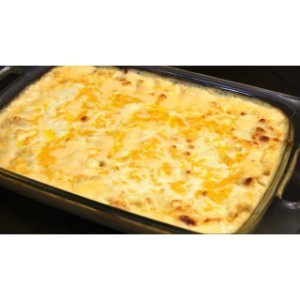cheese_brain food: (74, 94, 211, 190)
